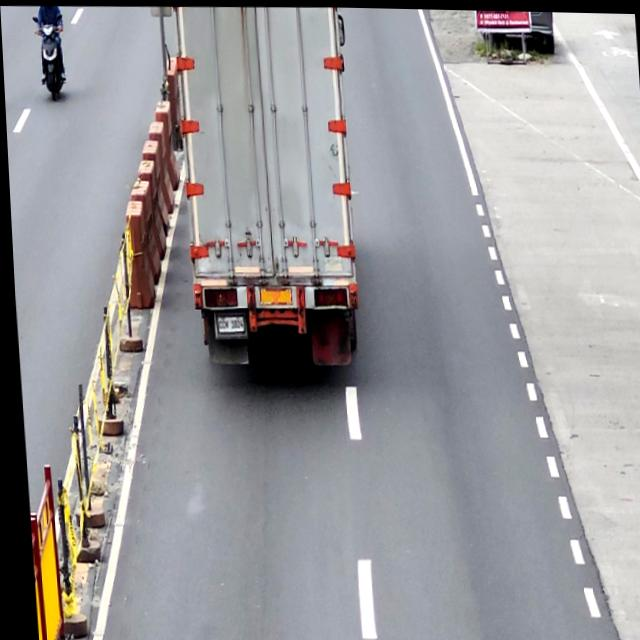License-Plate: (211, 312, 242, 331)
Truck: (172, 3, 364, 364)
